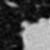node: (17, 17, 50, 50)
